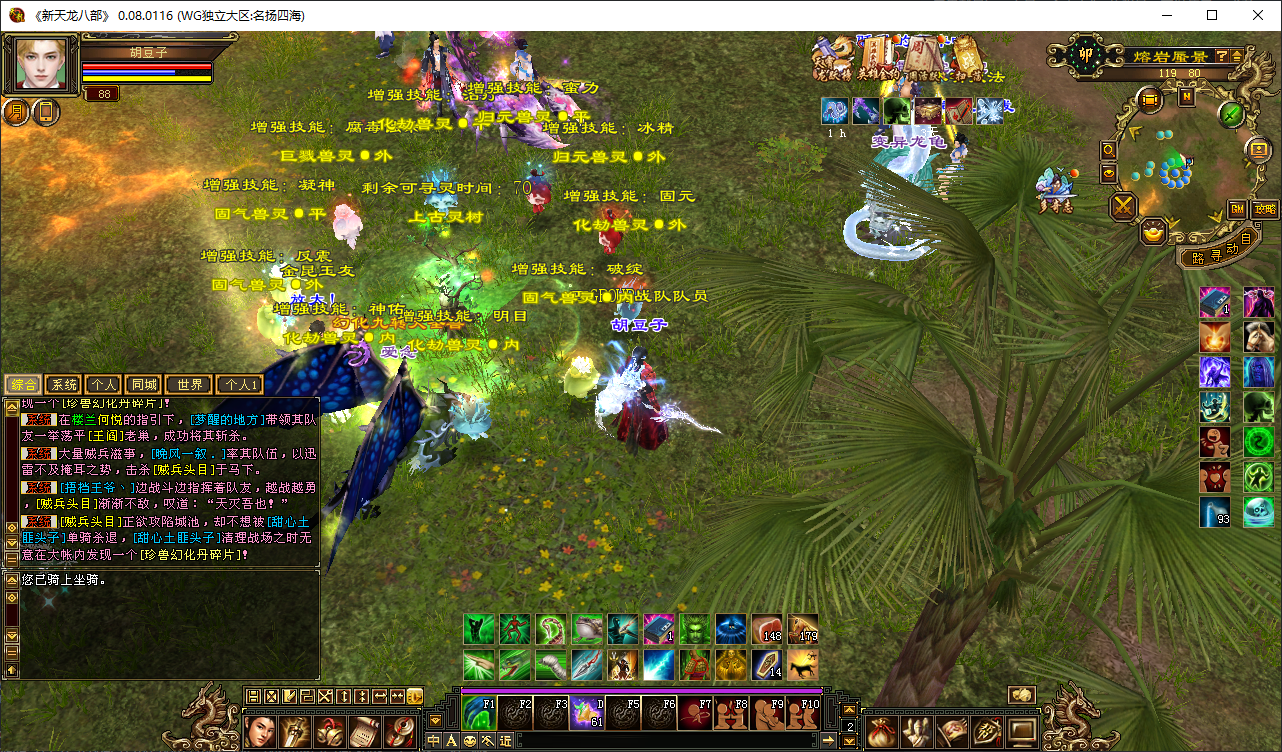cheap: (248, 108, 400, 258), (194, 239, 369, 369), (548, 181, 698, 267), (403, 154, 485, 224), (501, 154, 574, 221)
